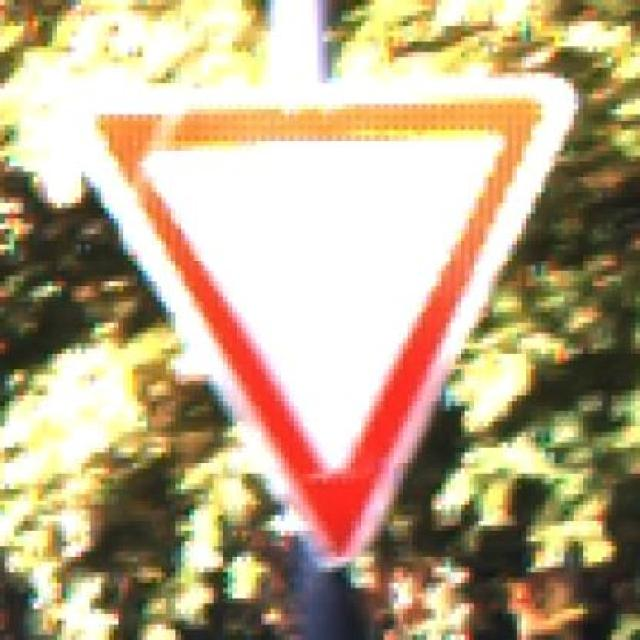Give Way: (38, 52, 636, 572)
